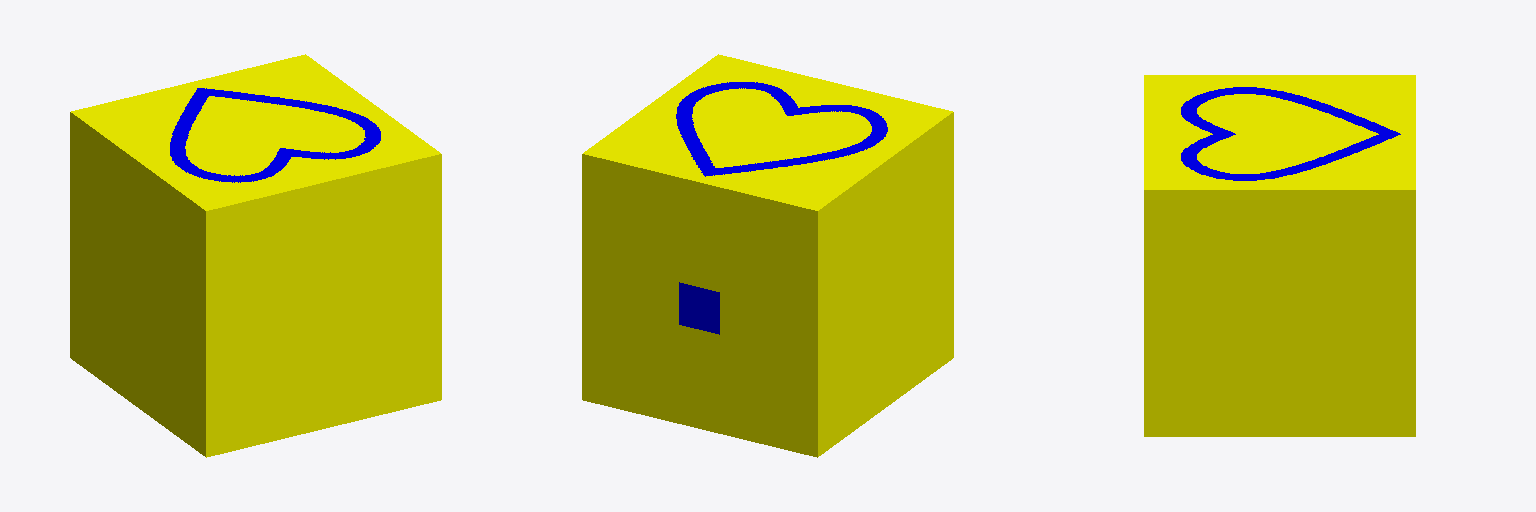
3 renders of one model, left to right at view 1: azimuth 30°, elevation 25°; view 2: azimuth 150°, elevation 25°; view 3: azimuth 270°, elevation 25°, orthographic.
Visible parts, largest first — view 1: Cube; view 2: Cube; view 3: Cube.
Part boxes in pixels (left/top/right/bottom): Cube: left=70, top=54, right=441, bottom=457; Cube: left=582, top=54, right=953, bottom=457; Cube: left=1144, top=75, right=1415, bottom=436.
Bounding box in the file's own units: 0.05 × 0.05 × 0.05.
1 materials, 1 textured.